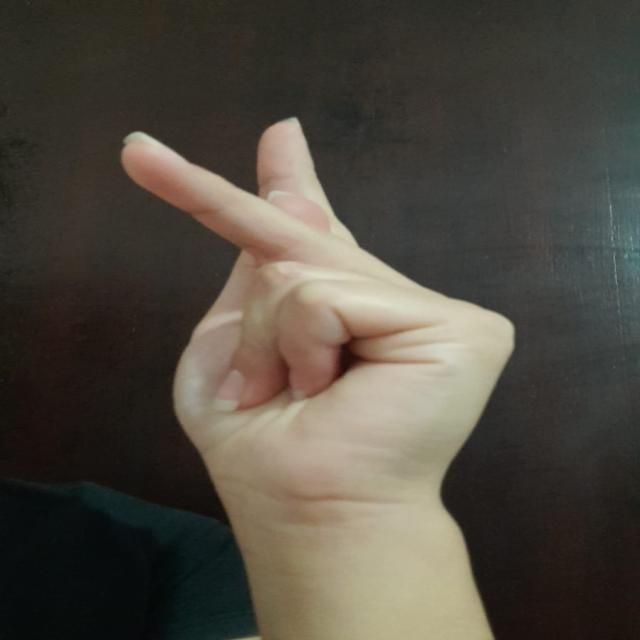K: (89, 116, 537, 496)
